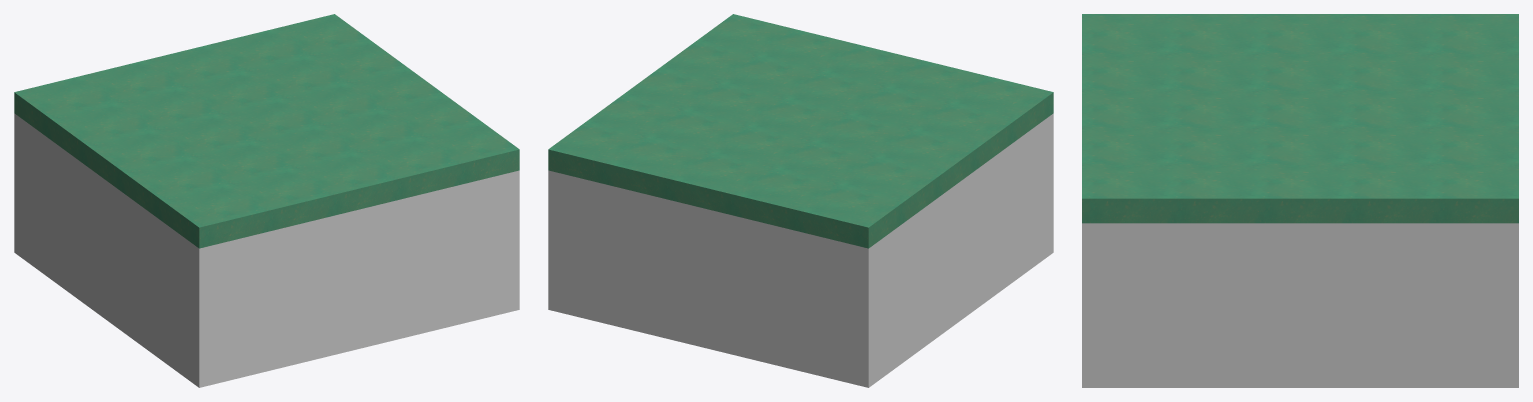
The model's file is GrassGround.fbx.
3 views of the same model, side by side, from view 1: azimuth 30°, elevation 25°; view 2: azimuth 150°, elevation 25°; view 3: azimuth 270°, elevation 25° (orthographic). The views are drawn at different scales.
Parts seen in each view (by area): view 1: GrassLand; view 2: GrassLand; view 3: GrassLand.
Part boxes in pixels (x1,y1,x2,y2): GrassLand: [14, 14, 519, 387]; GrassLand: [548, 14, 1053, 387]; GrassLand: [1082, 14, 1518, 387].
Size of the model in its own units: 2 by 0.956 by 2.
